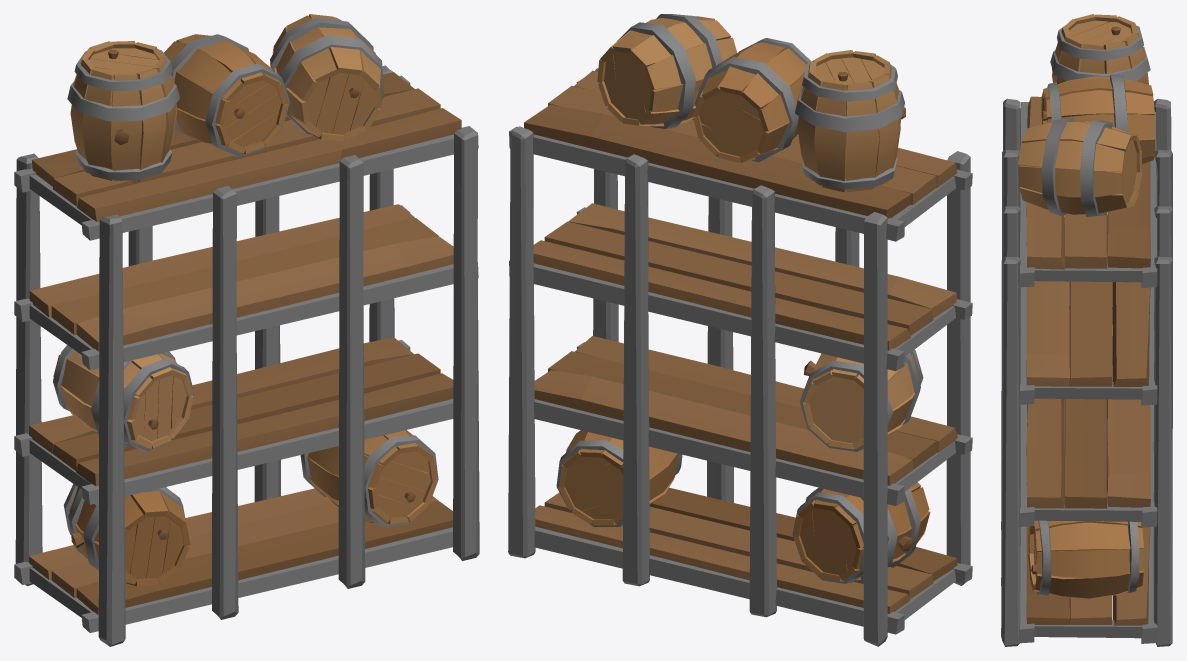
The model's file is Barrel_Cabinet_C.fbx.
3 views of the same model, side by side, from view 1: azimuth 30°, elevation 25°; view 2: azimuth 150°, elevation 25°; view 3: azimuth 270°, elevation 25° (orthographic). The views are drawn at different scales.
Visible parts, largest first — view 1: Barrel_Cabinet_C; view 2: Barrel_Cabinet_C; view 3: Barrel_Cabinet_C.
Boxes of the visible parts, box(x1,y1,x2,y2) form: Barrel_Cabinet_C: box(14, 14, 479, 646); Barrel_Cabinet_C: box(508, 14, 972, 646); Barrel_Cabinet_C: box(1001, 14, 1172, 646).
Size of the model in its own units: 321 by 423 by 135.
